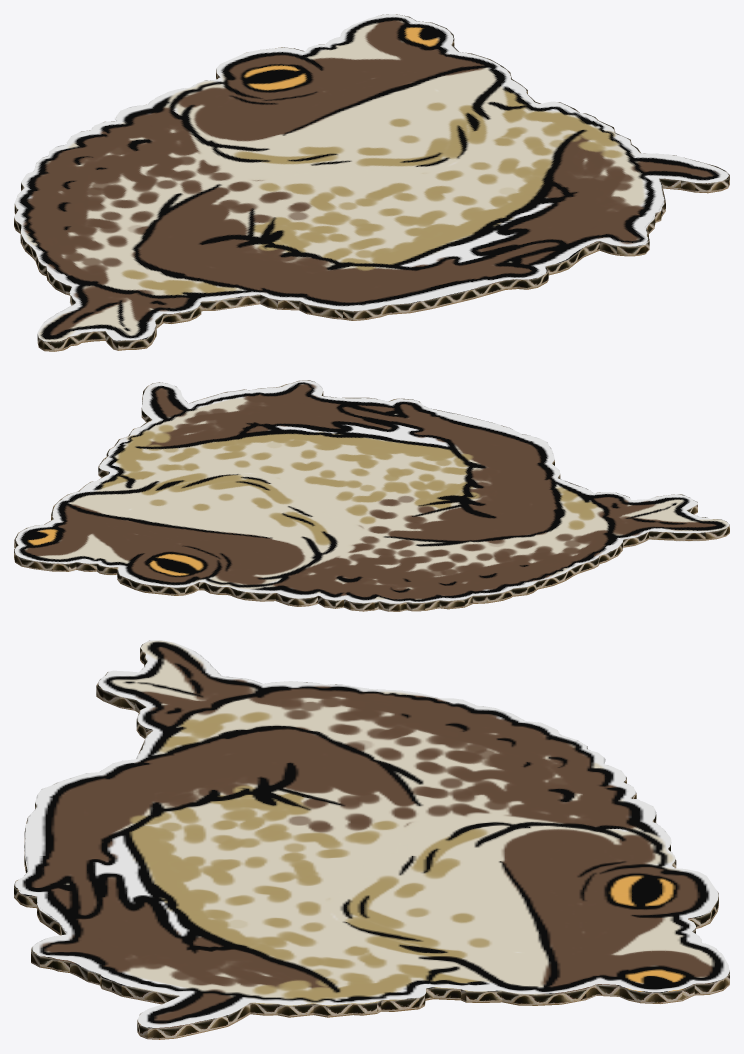
Rendered from frogMute.fbx.
3 views of the same model, one above another, from view 1: azimuth 30°, elevation 25°; view 2: azimuth 150°, elevation 25°; view 3: azimuth 270°, elevation 25° (orthographic). The views are drawn at different scales.
Visible parts, largest first — view 1: Plane; view 2: Plane; view 3: Plane.
Boxes of the visible parts, x1,y1,x2,y2 form: Plane: (14,14,729,351); Plane: (14,380,729,611); Plane: (14,640,729,1039).
Size of the model in its own units: 3.67 by 0.05 by 2.86.
